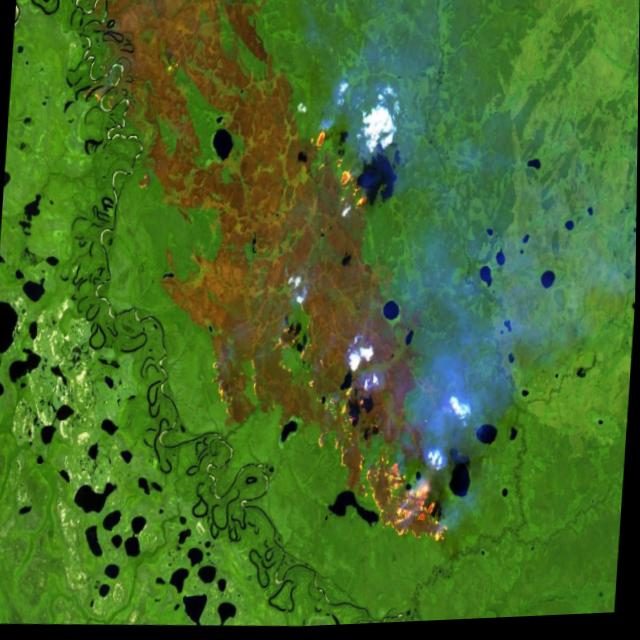fire: (201, 320, 465, 562), (304, 114, 380, 222)
